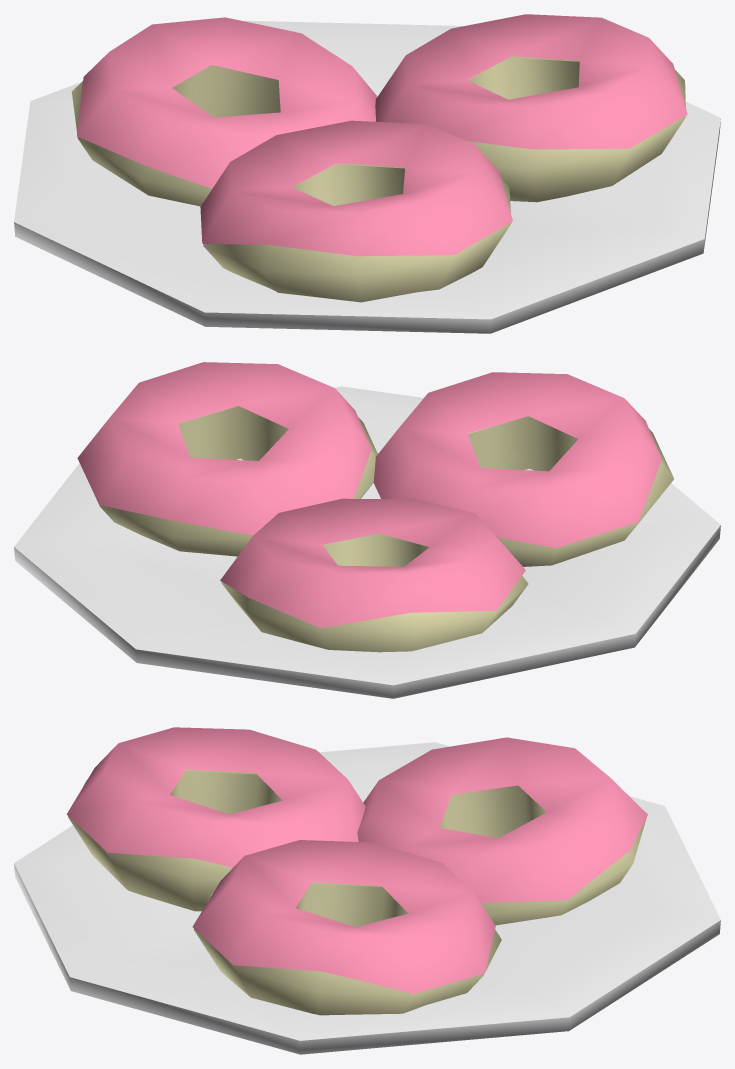
File: shop_017.glb
3 renders of one model, top to bottom at view 1: azimuth 30°, elevation 25°; view 2: azimuth 150°, elevation 25°; view 3: azimuth 270°, elevation 25°, orthographic. The views are drawn at different scales.
Parts seen in each view (by area): view 1: shop_017; view 2: shop_017; view 3: shop_017.
Boxes of the visible parts, x1,y1,x2,y2 form: shop_017: (14,14,720,333); shop_017: (14,362,720,698); shop_017: (14,727,720,1054).
Size of the model in its own units: 0.2193 by 0.0448 by 0.2194.
1 material, 1 textured.
